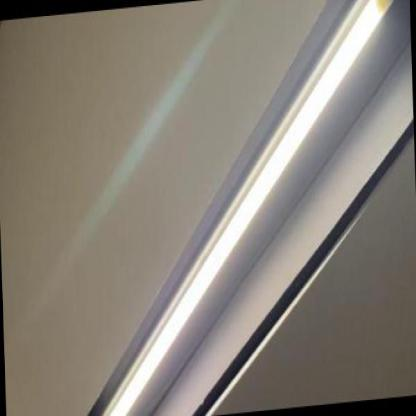light_on: (76, 0, 416, 415)
